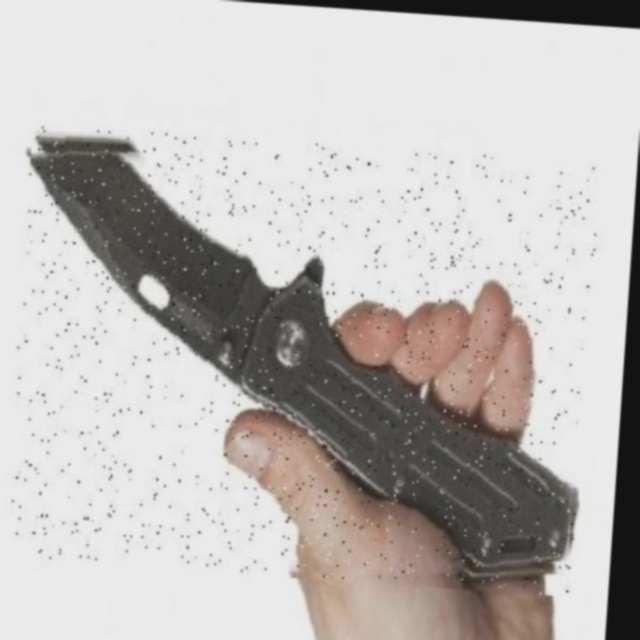Sharp-Object: (3, 125, 601, 596)
